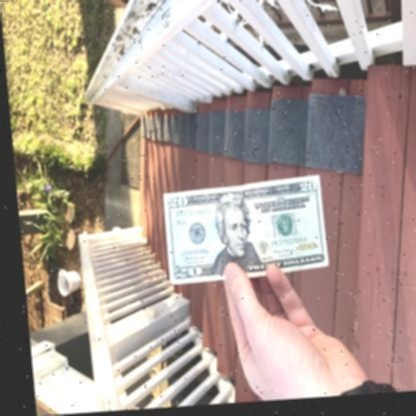twenty-front: (161, 172, 331, 285)
